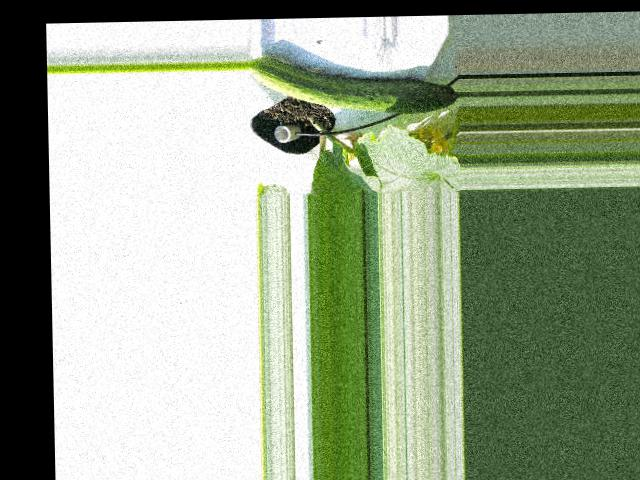cucumber: (245, 53, 458, 116)
